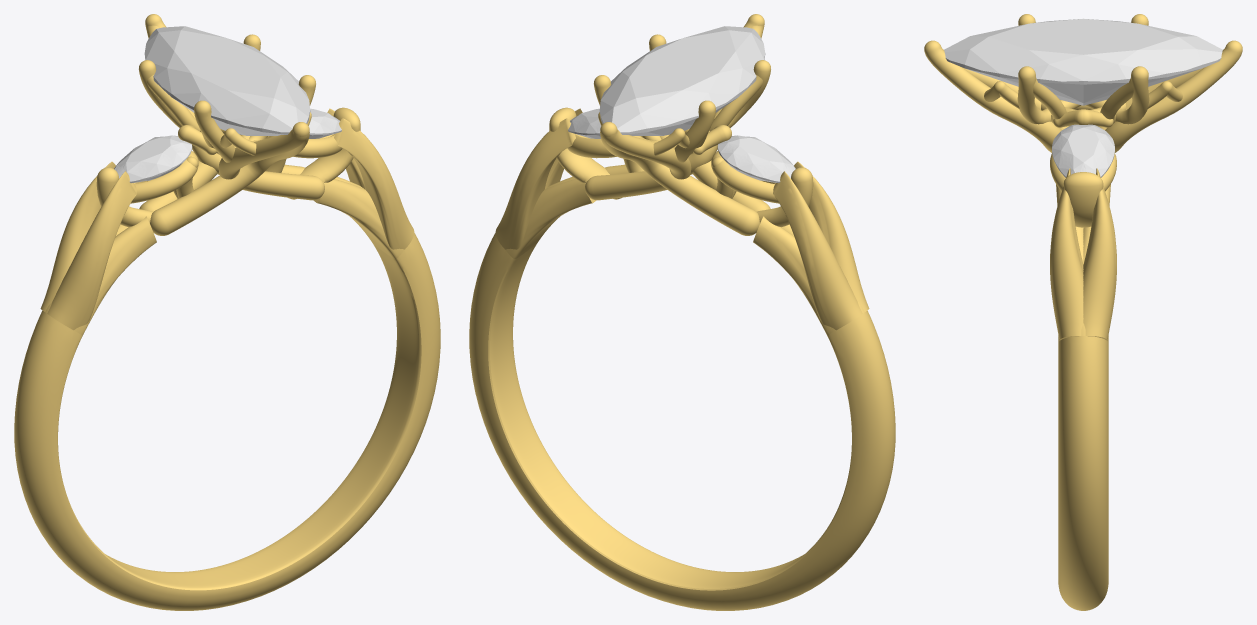
Rendered from ChristianV2YG_blender.glb.
The picture shows the model from 3 angles, left to right: view 1: azimuth 30°, elevation 25°; view 2: azimuth 150°, elevation 25°; view 3: azimuth 270°, elevation 25°; orthographic projection. The views are drawn at different scales.
Visible parts, largest first — view 1: v2 Christian YG for 3d model, Christian dia for 3d model.002, Christian dia for 3d model, Christian dia for 3d model.001; view 2: v2 Christian YG for 3d model, Christian dia for 3d model.002, Christian dia for 3d model, Christian dia for 3d model.001; view 3: v2 Christian YG for 3d model, Christian dia for 3d model.002, Christian dia for 3d model.001.
Part boxes in pixels (left/top/right/bottom): v2 Christian YG for 3d model: left=14, top=14, right=440, bottom=610; Christian dia for 3d model.002: left=144, top=26, right=310, bottom=135; Christian dia for 3d model: left=114, top=135, right=192, bottom=183; Christian dia for 3d model.001: left=308, top=108, right=341, bottom=138; v2 Christian YG for 3d model: left=469, top=14, right=895, bottom=610; Christian dia for 3d model.002: left=599, top=26, right=765, bottom=135; Christian dia for 3d model: left=717, top=135, right=795, bottom=183; Christian dia for 3d model.001: left=568, top=108, right=601, bottom=138; v2 Christian YG for 3d model: left=924, top=14, right=1242, bottom=610; Christian dia for 3d model.002: left=944, top=18, right=1222, bottom=105; Christian dia for 3d model.001: left=1052, top=124, right=1114, bottom=177.
Bounding box in the file's own units: 19.69 × 24.12 × 12.65.
